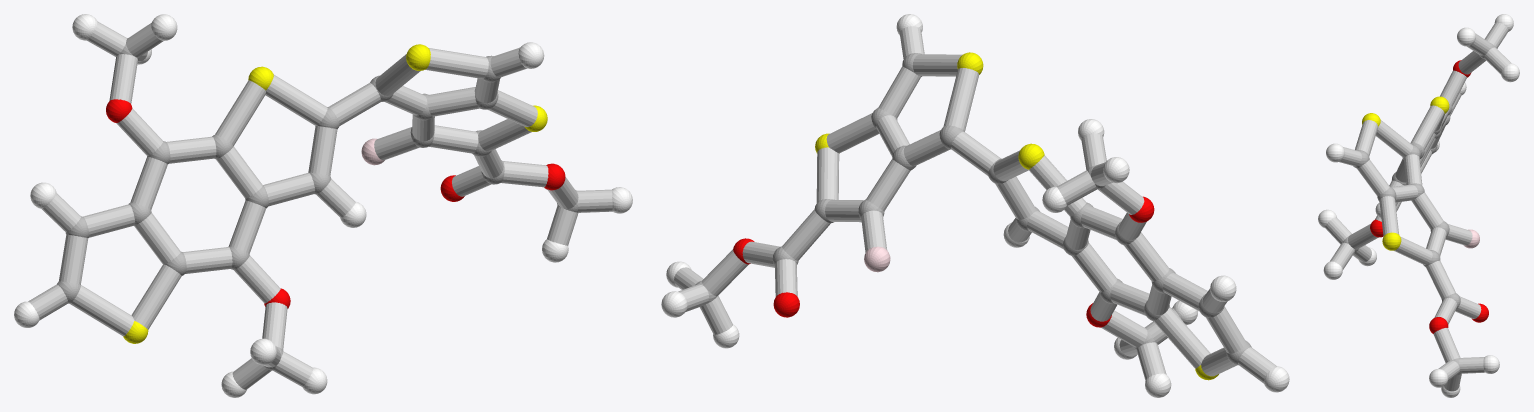
The model's file is color.glb.
The picture shows the model from 3 angles, left to right: view 1: azimuth 30°, elevation 25°; view 2: azimuth 150°, elevation 25°; view 3: azimuth 270°, elevation 25°; orthographic projection. The views are drawn at different scales.
Parts seen in each view (by area): view 1: grp15205, grp8689, grp1, grp7241, grp13395; view 2: grp15205, grp8689, grp1, grp13395, grp7241, grp14843; view 3: grp15205, grp8689, grp1, grp13395, grp7241.
Part boxes in pixels (x1,y1,x2,y2): grp15205: (28, 21, 612, 389); grp8689: (14, 14, 632, 397); grp1: (57, 38, 577, 370); grp7241: (123, 44, 547, 343); grp13395: (106, 99, 565, 308); grp15205: (674, 26, 1276, 383); grp8689: (661, 14, 1289, 397); grp1: (695, 53, 1251, 365); grp13395: (733, 196, 1154, 327); grp7241: (815, 52, 1218, 380); grp14843: (864, 246, 890, 272); grp15205: (1325, 22, 1511, 391); grp8689: (1318, 14, 1519, 397); grp1: (1342, 42, 1495, 375); grp13395: (1370, 60, 1488, 333); grp7241: (1362, 96, 1449, 250).
Size of the model in its own units: 16.08 by 8.18 by 6.33.
